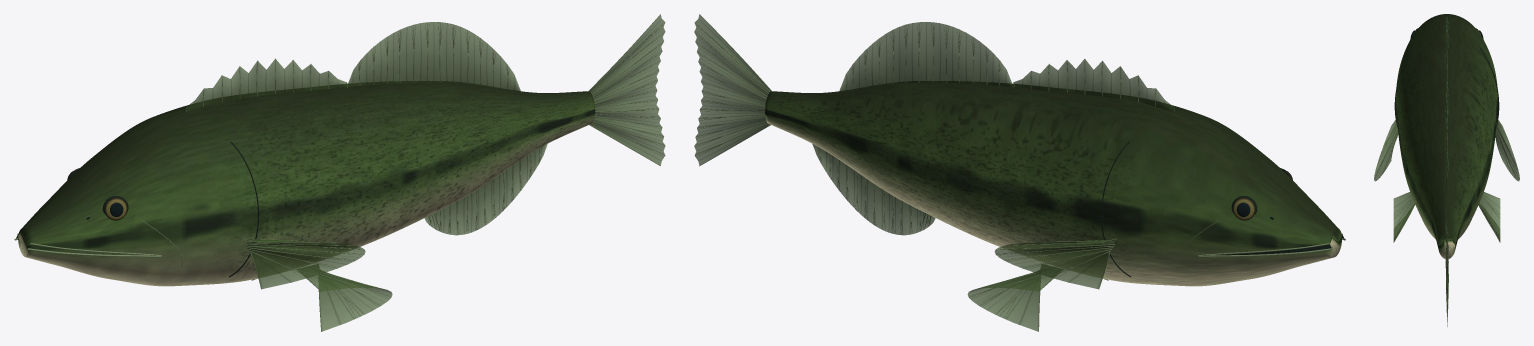
File: bass.glb
3 views of the same model, side by side, from view 1: azimuth 30°, elevation 25°; view 2: azimuth 150°, elevation 25°; view 3: azimuth 270°, elevation 25° (orthographic). The views are drawn at different scales.
Visible parts, largest first — view 1: bass specimen; view 2: bass specimen; view 3: bass specimen.
Boxes of the visible parts, box(x1,y1,x2,y2) form: bass specimen: box(14, 14, 665, 331); bass specimen: box(694, 14, 1345, 331); bass specimen: box(1374, 14, 1519, 326).
Bounding box in the file's own units: 2.35 × 0.881 × 0.6016.
Materials: 10 (6 with a texture image).
